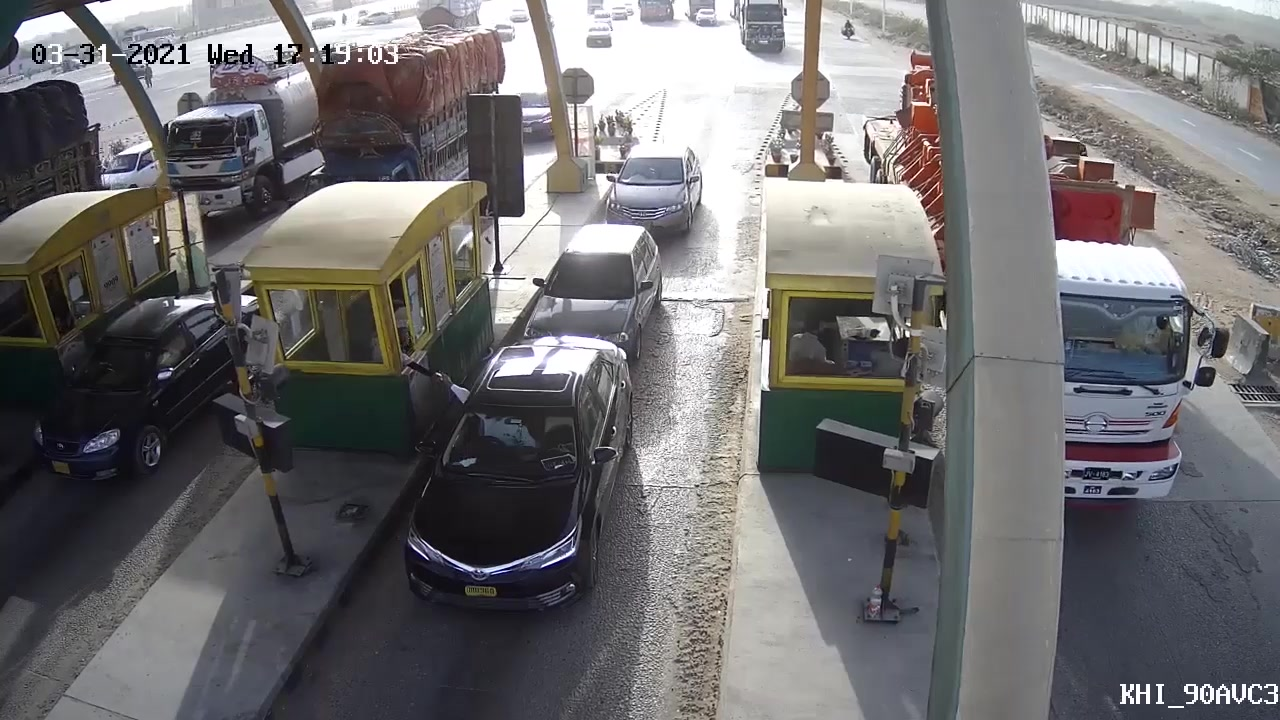F1: (396, 332, 635, 636), (522, 217, 667, 362), (607, 135, 704, 233)
